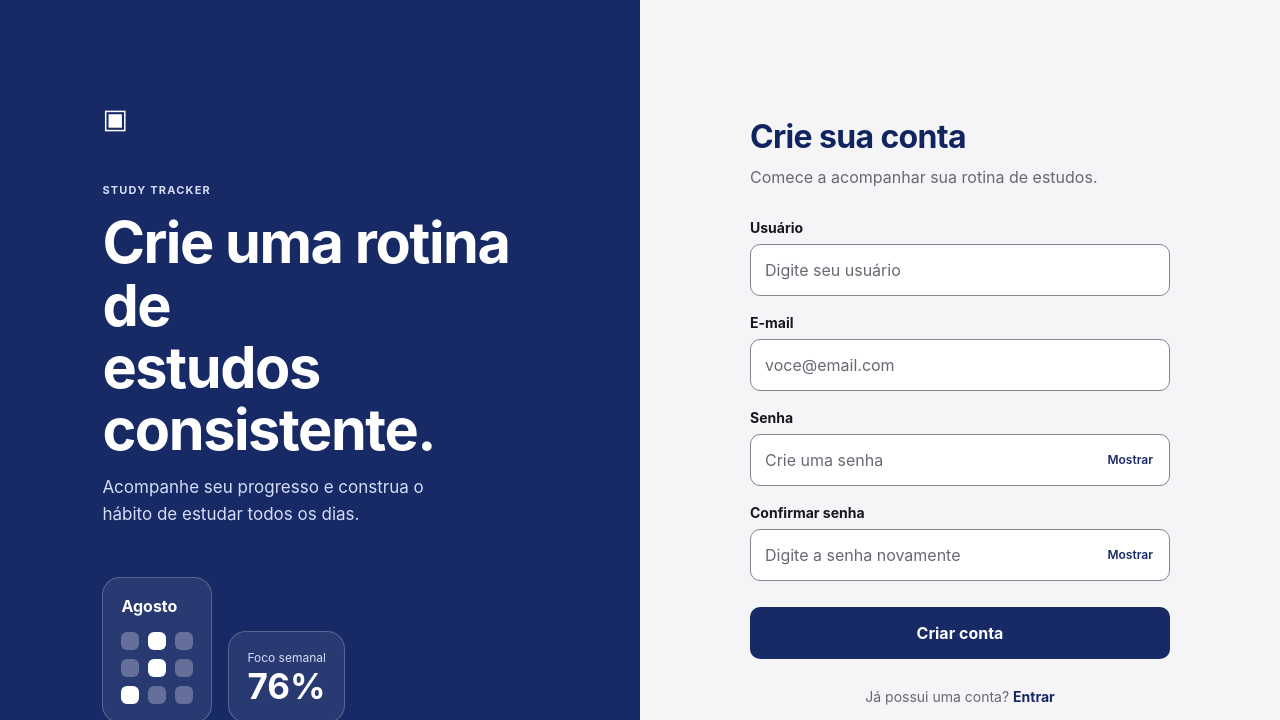
Test: authentication pages › validates password confirmation before registering
Type "ana" into the field labelled "Usuário" at (960, 270), box top-left (750, 244), bottom-right (1170, 296)
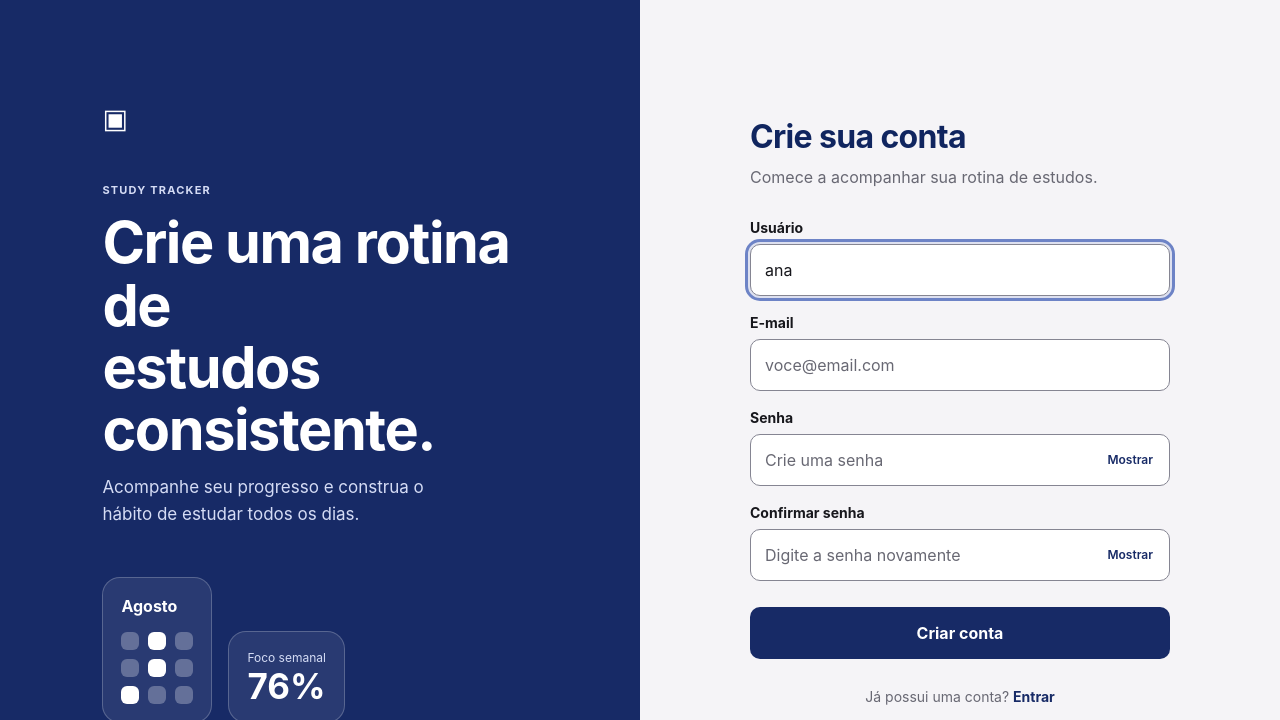
Type "ana@example.com" into the field labelled "E-mail" at (960, 365), box top-left (750, 339), bottom-right (1170, 391)
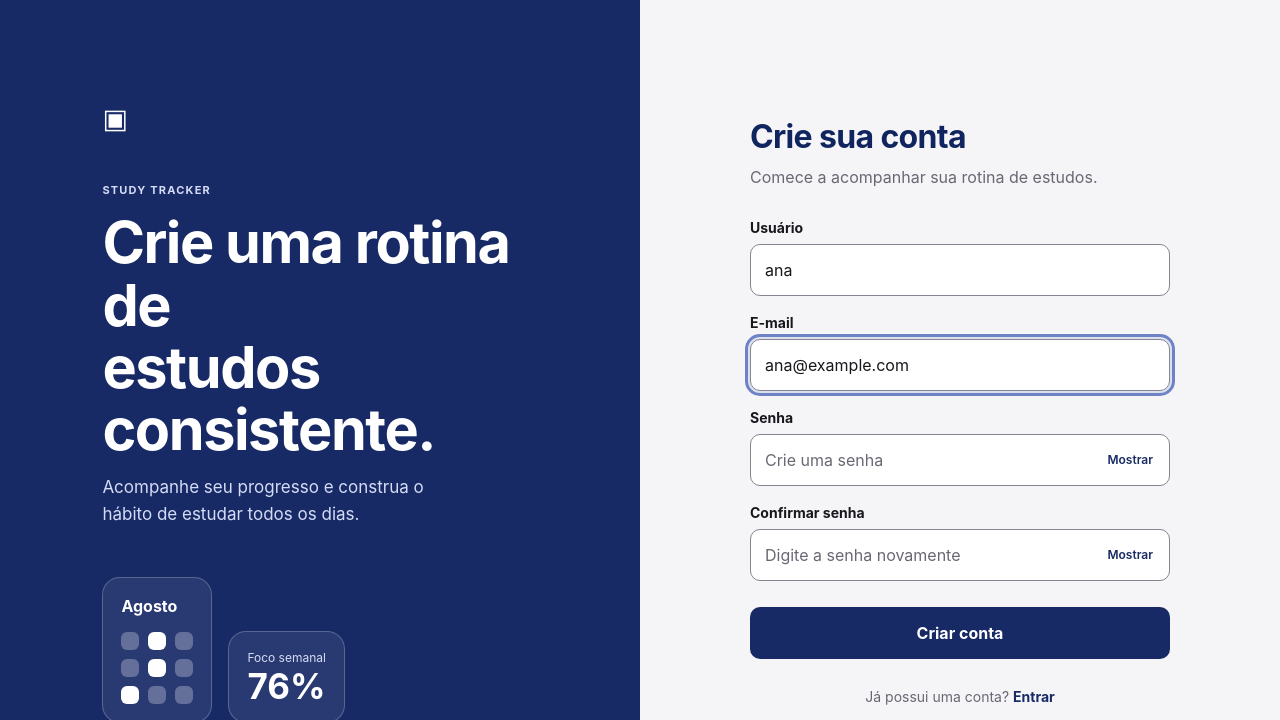
Type "password123" into the password field labelled "Senha Mostrar" at (960, 460), box top-left (750, 434), bottom-right (1170, 486)
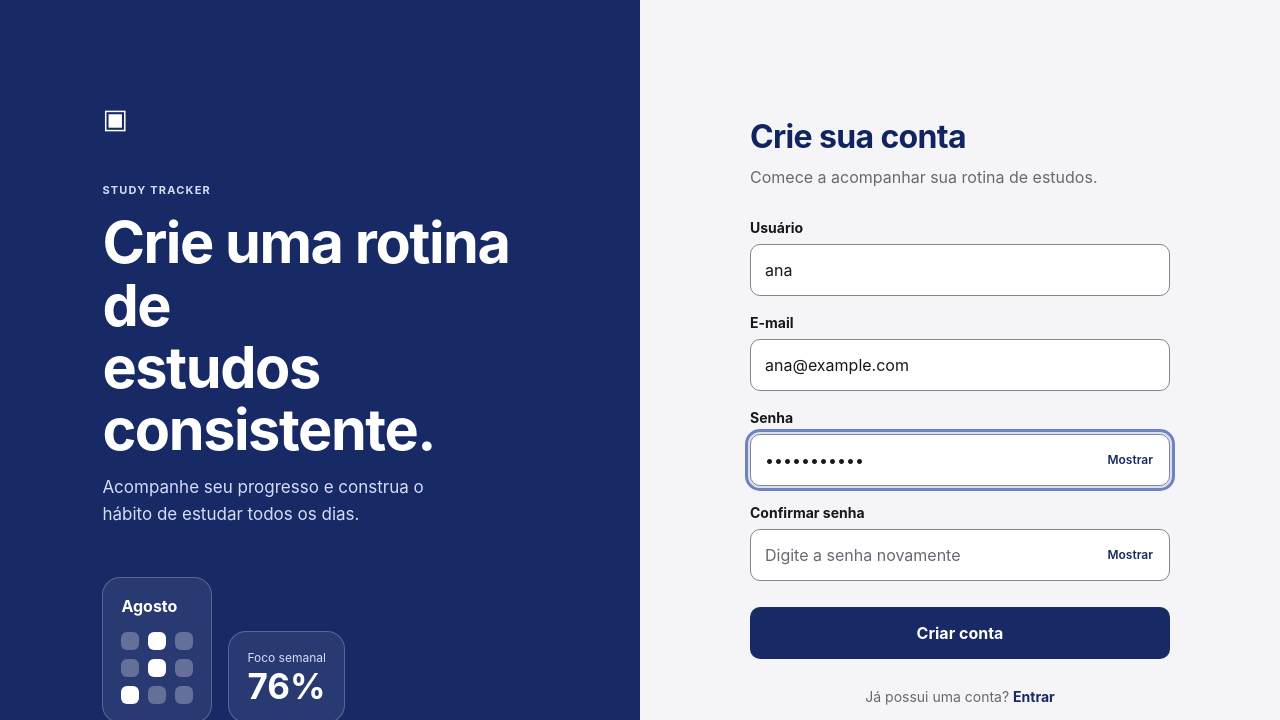
Type "different123" into the password field labelled "Confirmar senha Mostrar" at (960, 555), box top-left (750, 529), bottom-right (1170, 581)
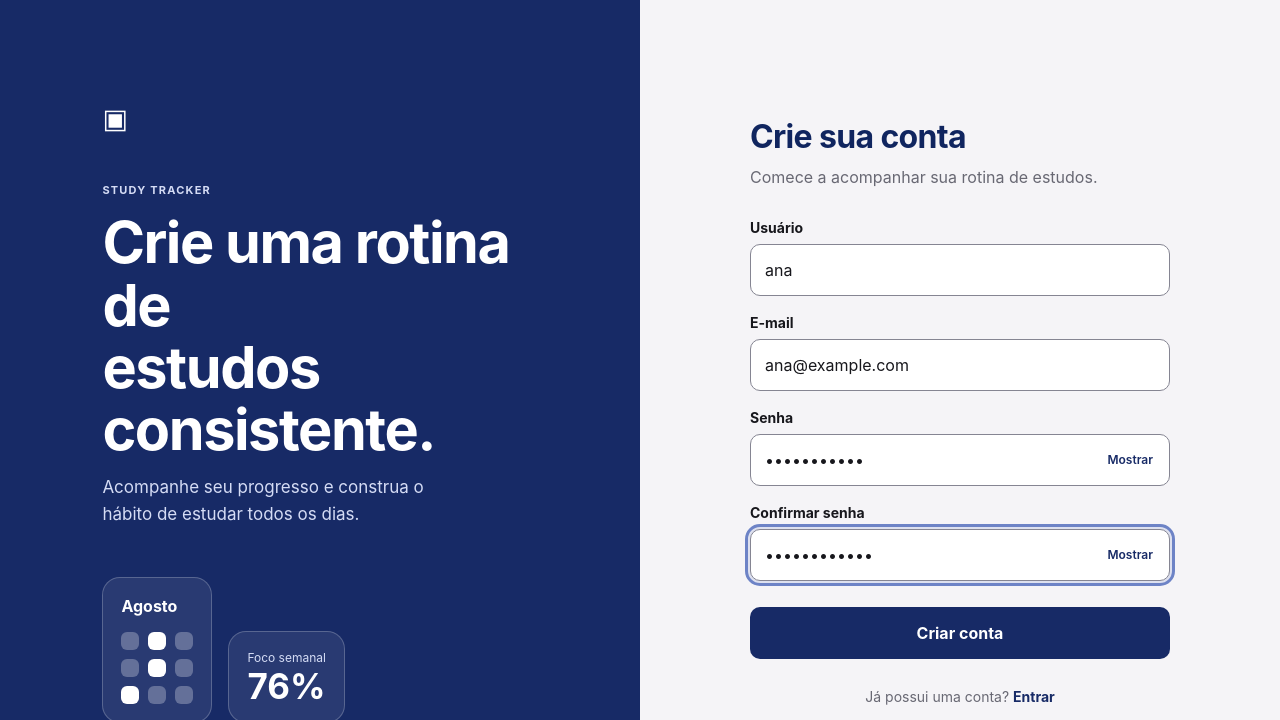
Click the button "Criar conta" at (960, 633), box top-left (750, 607), bottom-right (1170, 659)
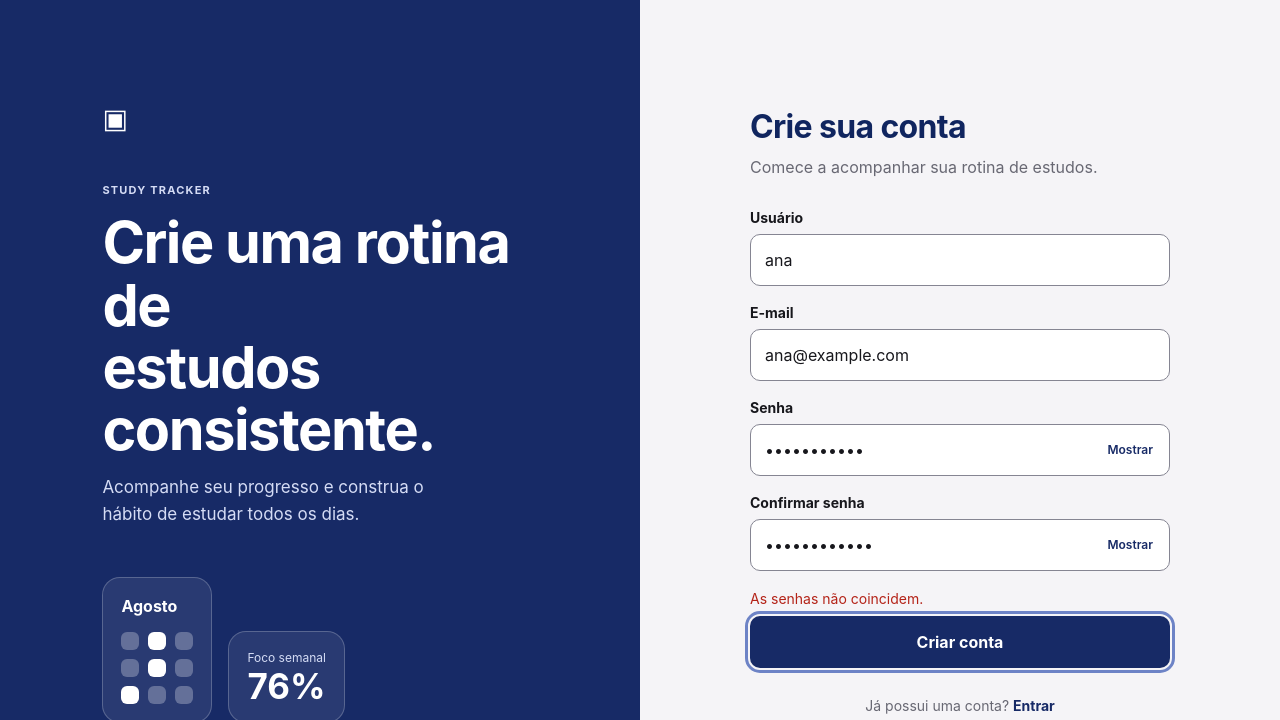
Expected: the text "As senhas não coincidem." is shown, top-left (750, 590), bottom-right (923, 607)
